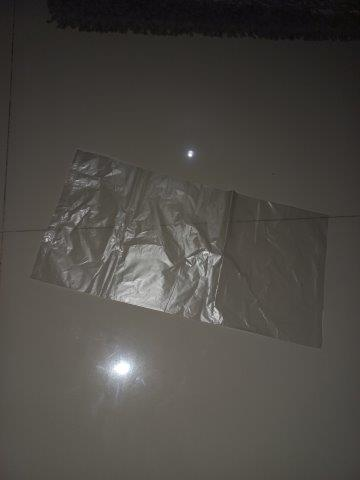plastik: (30, 150, 327, 355)
